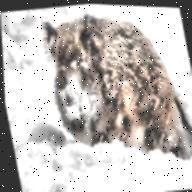boar: (23, 1, 192, 186)
